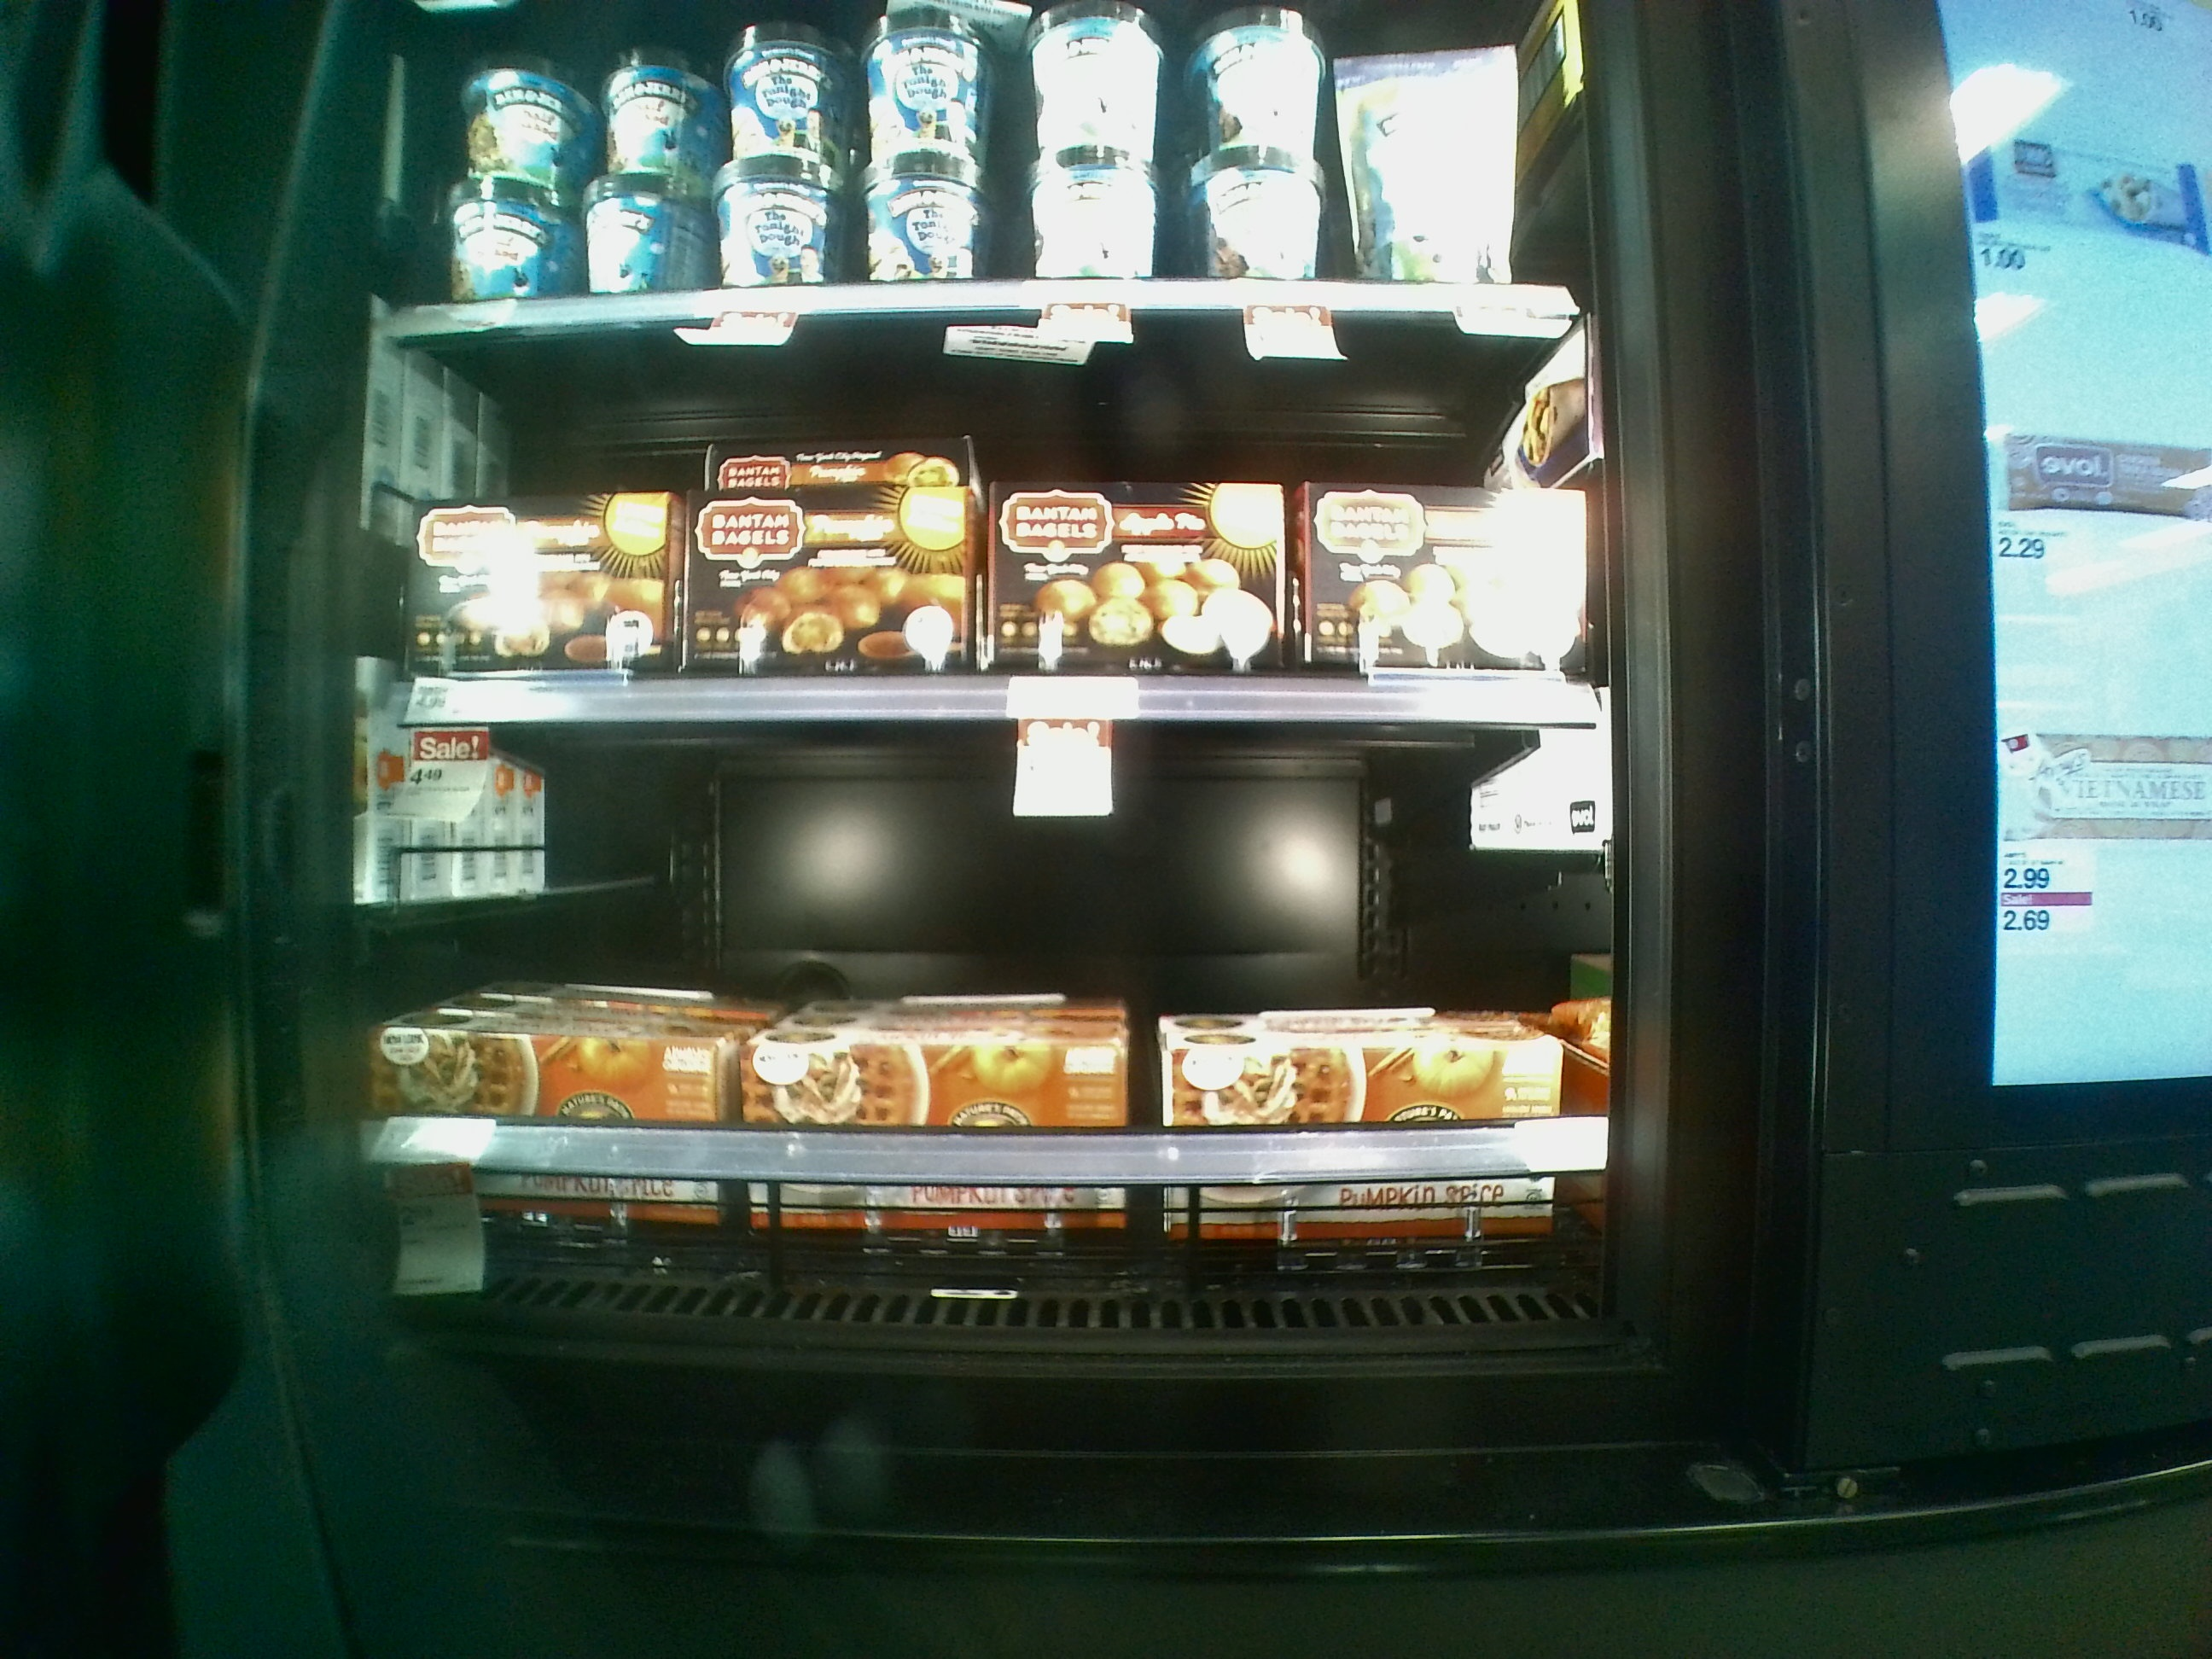shelf: (354, 699, 1644, 1356), (361, 295, 1608, 735)
